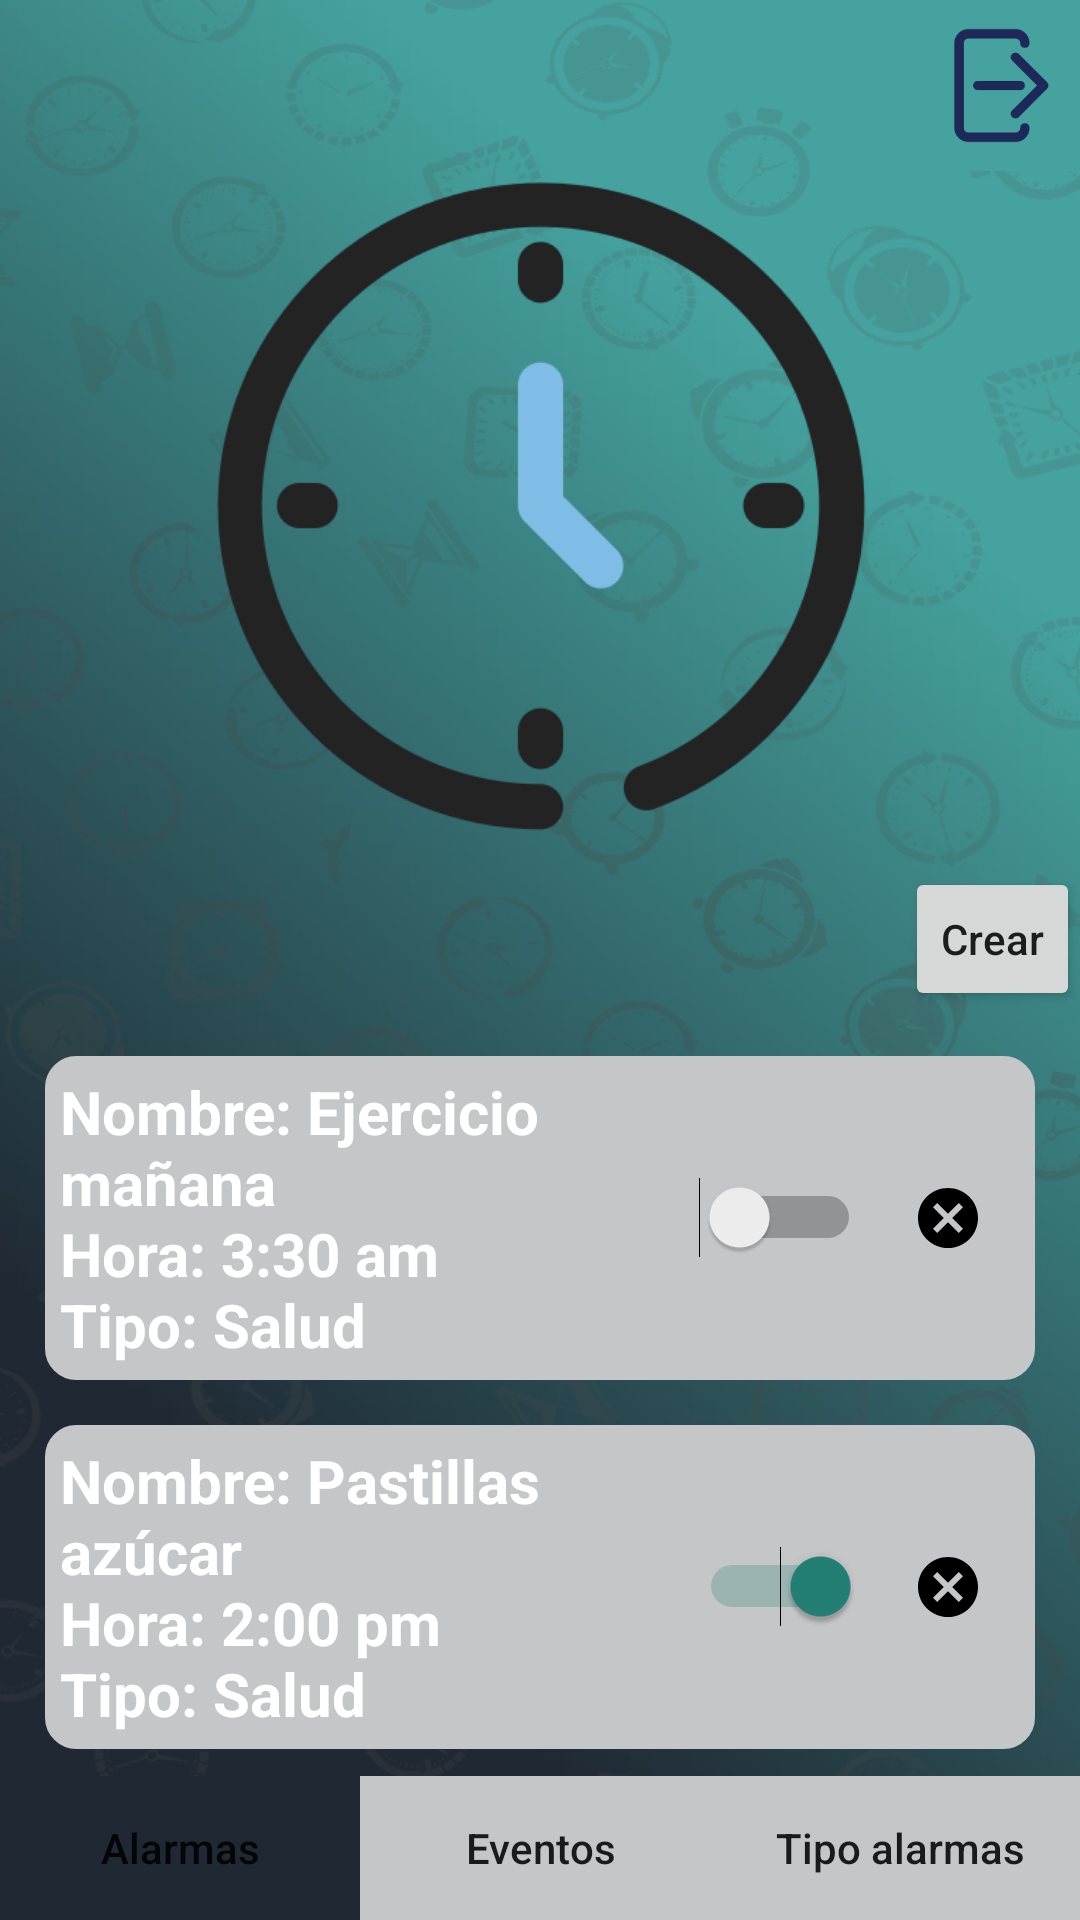

Named icons in this screenshot (1080 x 1920) and their centers, (x=x, y=y):
close: (x=948, y=1218), (x=948, y=1587)
